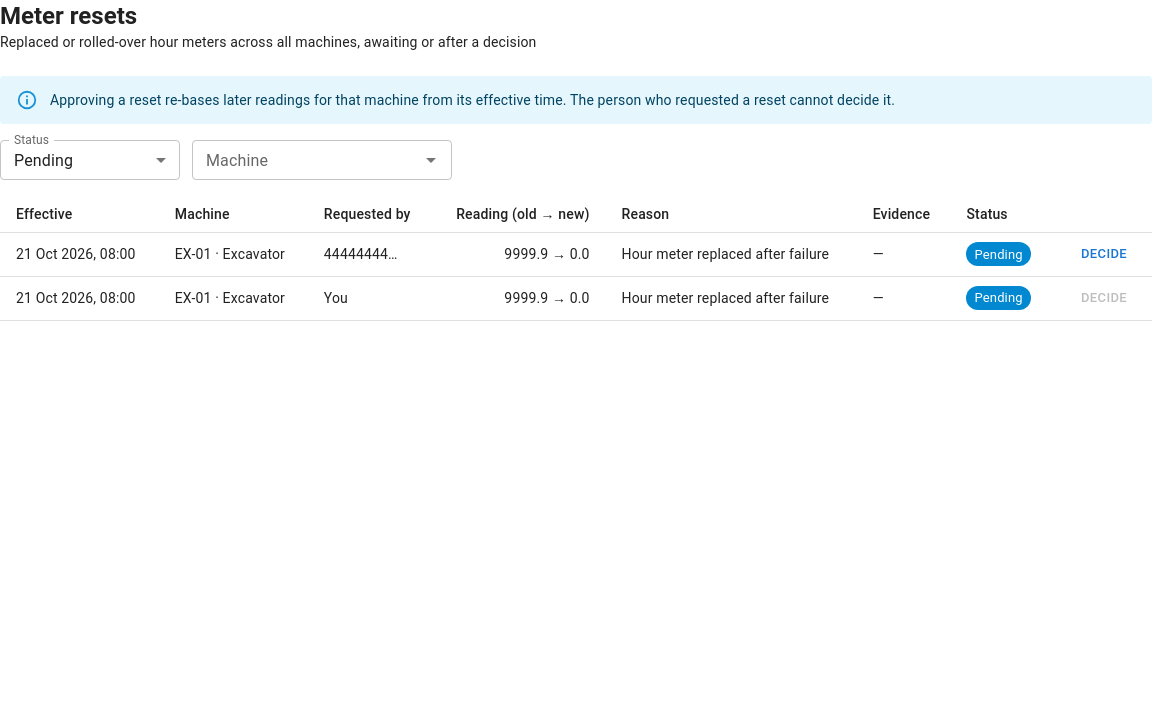
Test: MeterResetsPage › decides a reset through the shared dialog and reloads
Click the button "Decide" in the row of "44444444…" at {"x": 1104, "y": 254}, box [1072,239,1136,270]
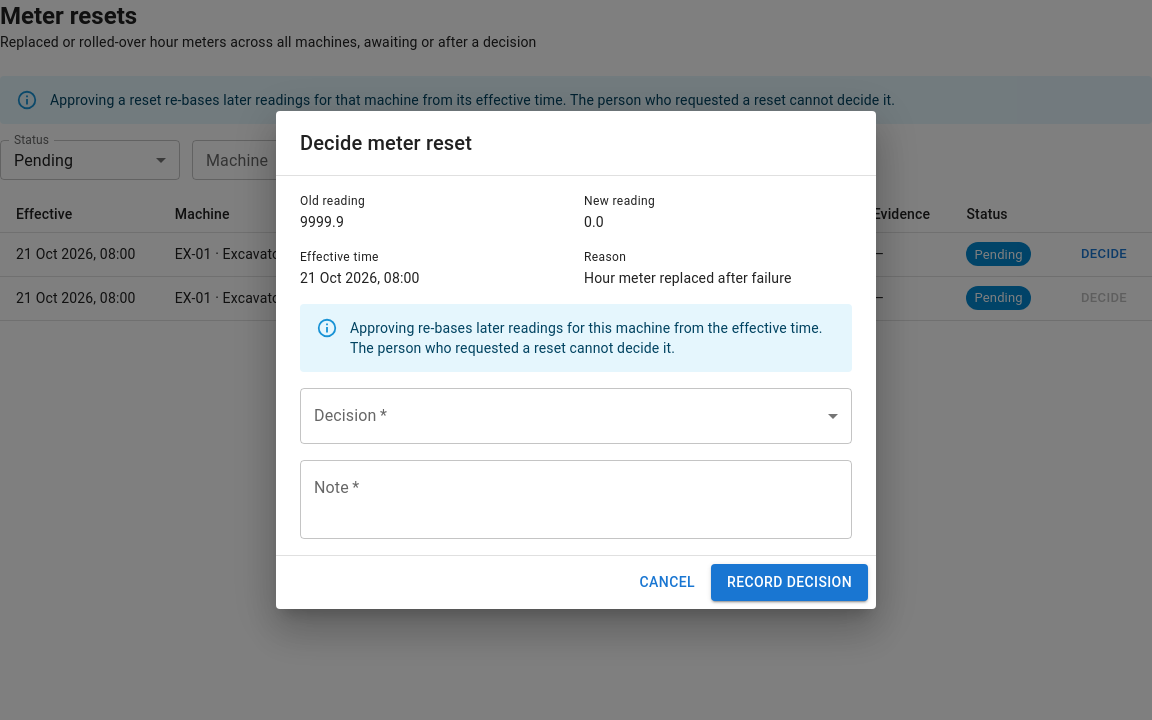
Click the dropdown named "Decision" at {"x": 576, "y": 416}, box [300,388,852,444]
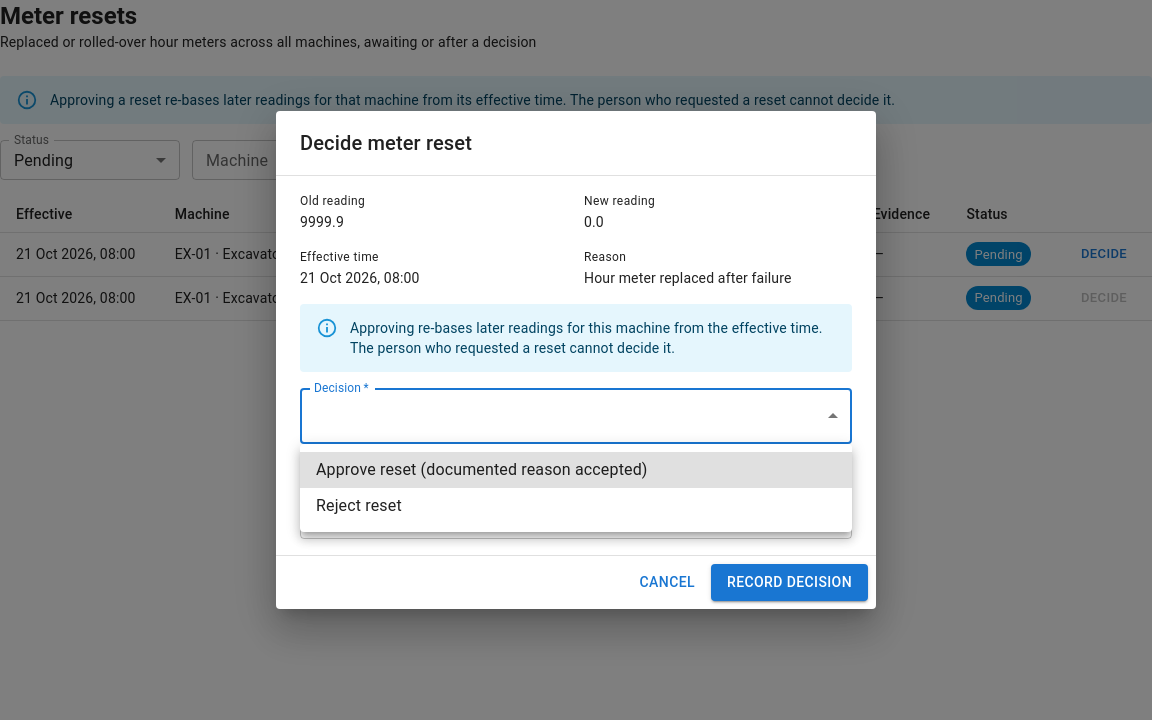
Click the option "Approve reset (documented reason accepted)" at {"x": 576, "y": 470}, box [300,452,852,488]
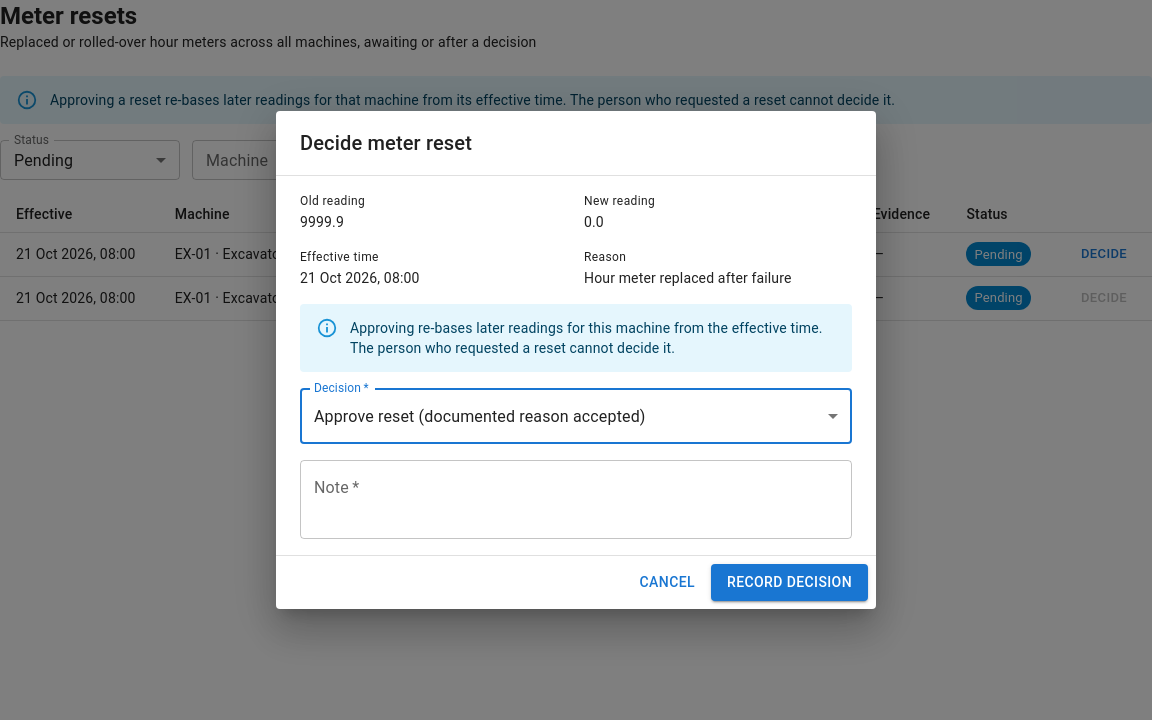
Type "Workshop card seen" into the text box labelled "Note *" at {"x": 576, "y": 500}, box [314,477,838,523]
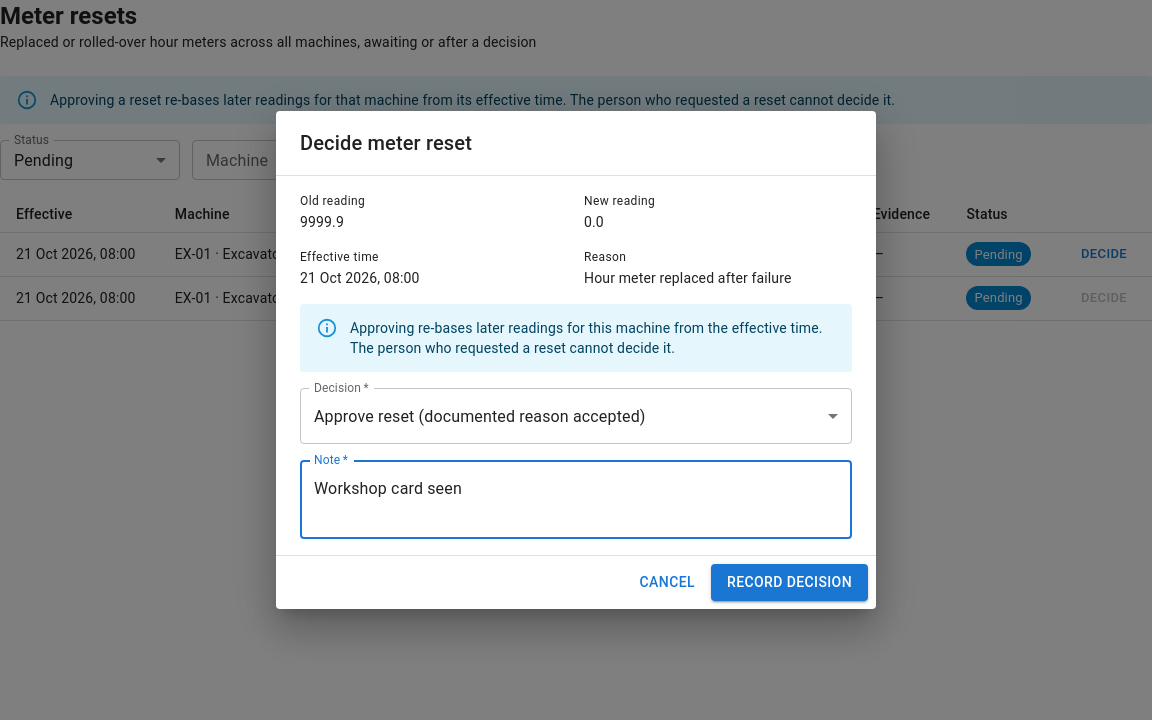
Click the button "Record decision" at {"x": 790, "y": 582}, box [711,564,868,601]
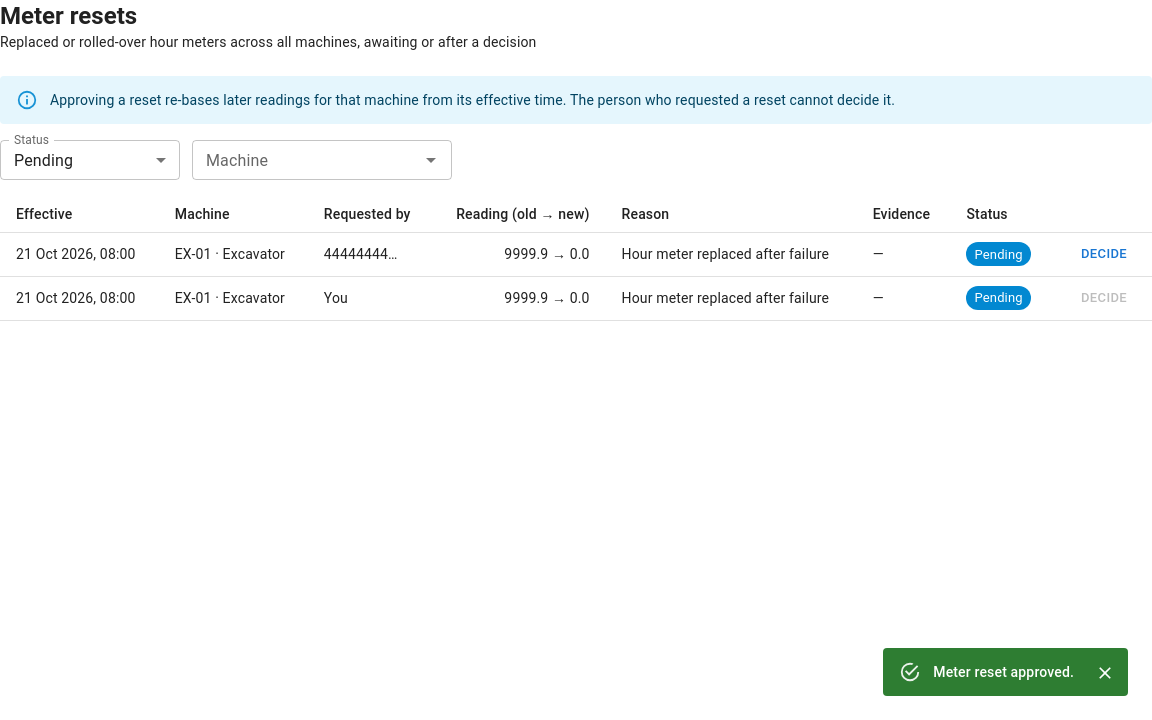
Now the text "Meter reset approved." is shown, box [933,664,1074,680]
